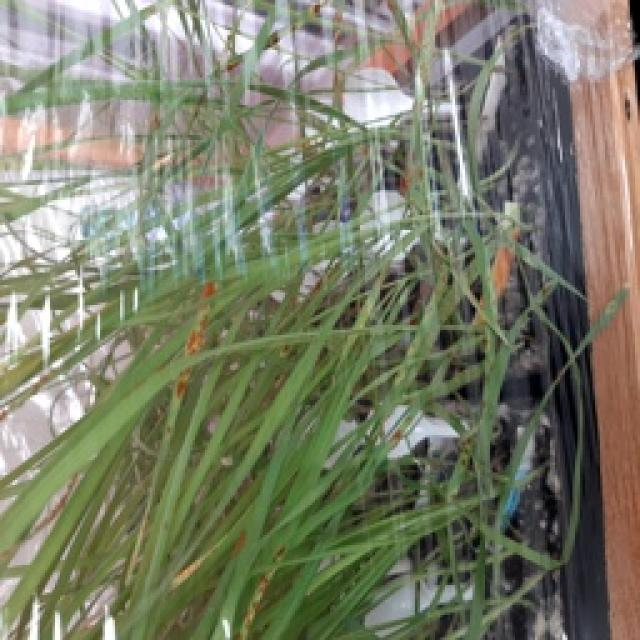Healthy Wheat: (0, 0, 625, 638)
